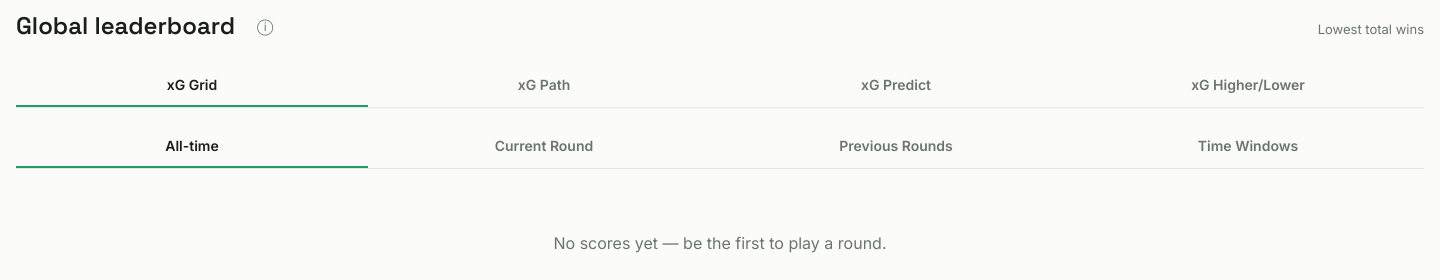
Test: LiveLeaderboard › REQ407: re-selecting "Current Round" after switching away fetches again, replacing the previously shown rows
The width and height of the screenshot is (1440, 280).
Expected: the text "No scores yet — be the first to play a round." is shown, top-left (554, 233), bottom-right (886, 253)
// First entry into "live".
Click the tab "Current Round" at x=544, y=146, box top-left (368, 124), bottom-right (720, 168)
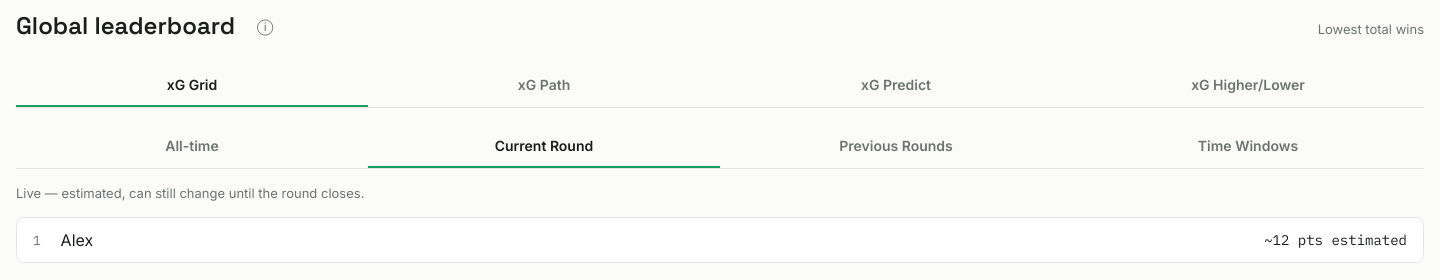
Expected: the text "Alex" is shown, top-left (61, 230), bottom-right (93, 250)
Click the tab "All-time" at x=192, y=146, box top-left (16, 124), bottom-right (368, 168)
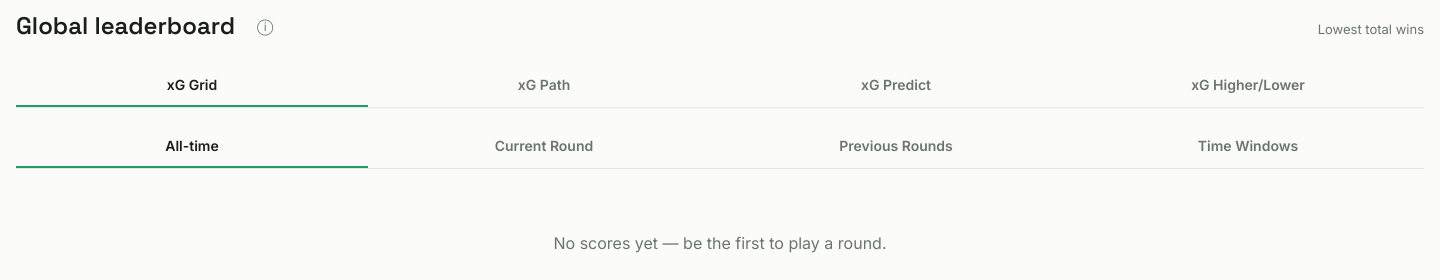
Click the tab "Current Round" at x=544, y=146, box top-left (368, 124), bottom-right (720, 168)
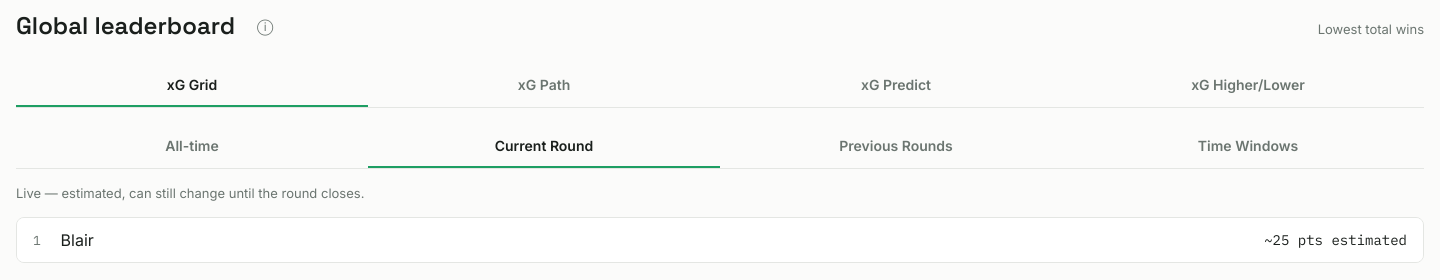
Expected: the text "Alex" is not shown
Expected: the text "Blair" is shown, top-left (61, 230), bottom-right (94, 250)
